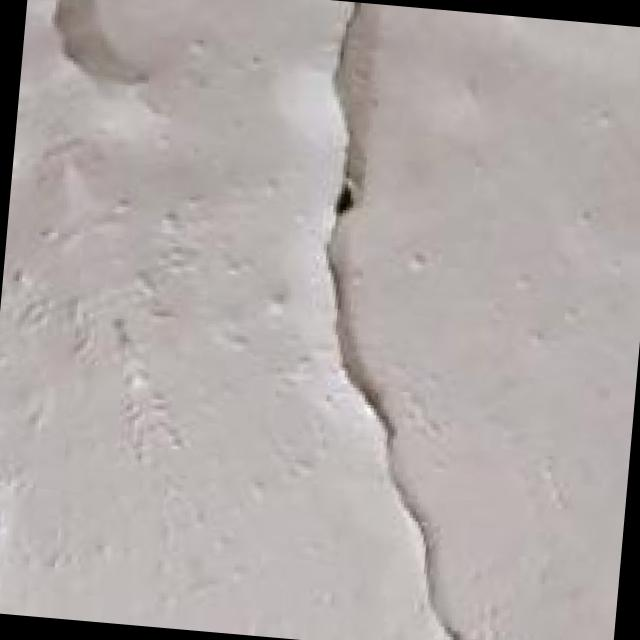crack: (235, 9, 566, 640)
